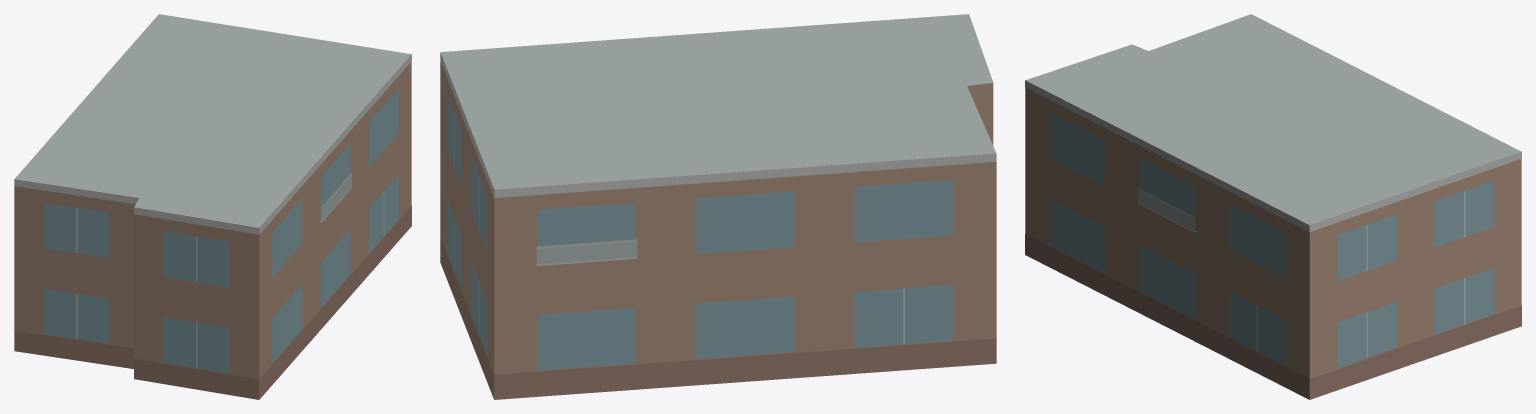
File: survey-upis-33026656.glb
3 views of the same model, side by side, from view 1: azimuth 30°, elevation 25°; view 2: azimuth 150°, elevation 25°; view 3: azimuth 270°, elevation 25° (orthographic). The views are drawn at different scales.
Parts seen in each view (by area): view 1: survey-upis-33026656.tmp; view 2: survey-upis-33026656.tmp; view 3: survey-upis-33026656.tmp.
Boxes of the visible parts, bbox=[...] form: survey-upis-33026656.tmp: bbox=[14, 14, 411, 399]; survey-upis-33026656.tmp: bbox=[440, 14, 996, 399]; survey-upis-33026656.tmp: bbox=[1025, 14, 1521, 399].
Bounding box in the file's own units: 15.84 × 6.1 × 15.73.
